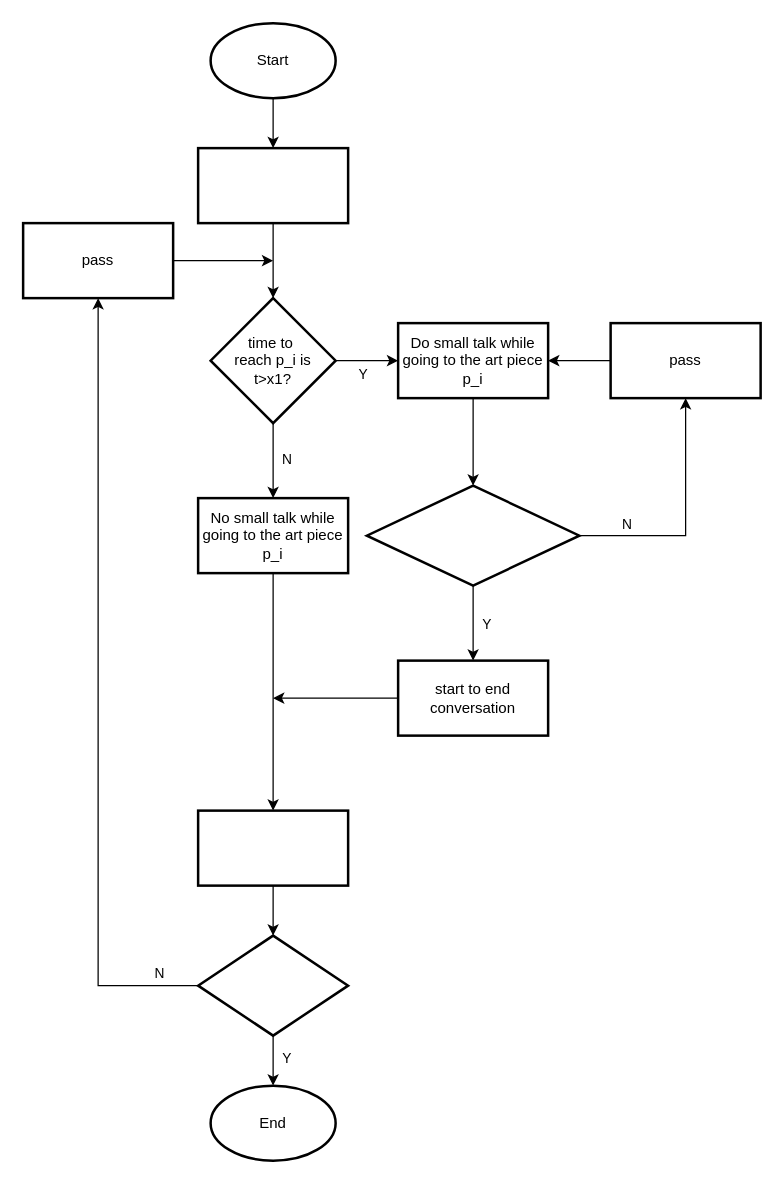
The diagram is 783 pixels wide and 1183 high, and some of its shapes have lost their labels. Each missing label, with the centre of its shape:
"Introduction" goes at pixel 272 185.
"Is there any interruption?" goes at pixel 272 985.
"reach destination in less than x2 seconds?" goes at pixel 472 535.
"reached destination and start explaining art p_i" goes at pixel 272 847.
